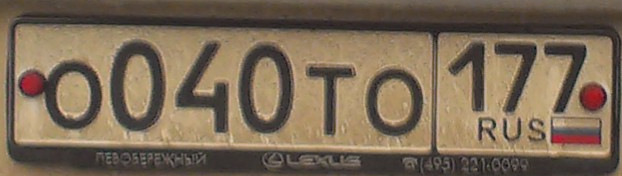character: (174, 38, 236, 137), (238, 42, 300, 140), (109, 34, 168, 129), (299, 58, 365, 139), (362, 61, 426, 142), (41, 55, 105, 132), (489, 37, 542, 120), (542, 41, 590, 114), (446, 36, 488, 116)
